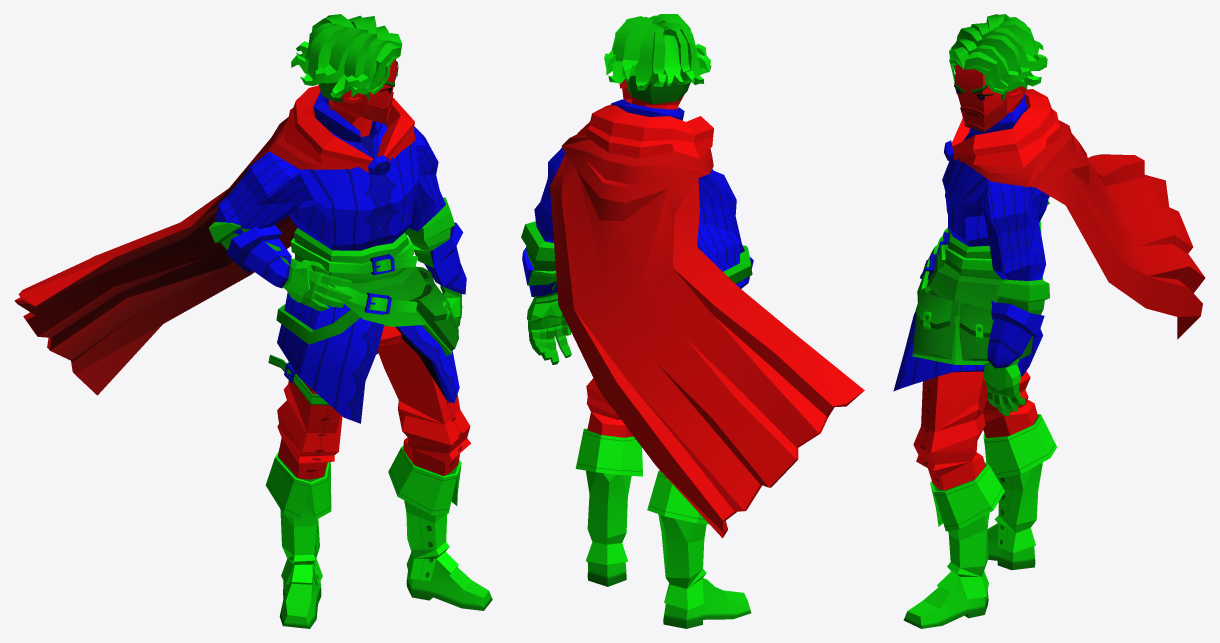
Rendered from M_Archer_prePosed2.fbx.
3 views of the same model, side by side, from view 1: azimuth 30°, elevation 25°; view 2: azimuth 150°, elevation 25°; view 3: azimuth 270°, elevation 25° (orthographic). The views are drawn at different scales.
Visible parts, largest first — view 1: M_Archer_prePosed2; view 2: M_Archer_prePosed2; view 3: M_Archer_prePosed2.
Part boxes in pixels (x1,y1,x2,y2): M_Archer_prePosed2: (14,14,492,628); M_Archer_prePosed2: (521,14,864,628); M_Archer_prePosed2: (893,14,1205,628).
Size of the model in its own units: 142 by 206 by 105.
